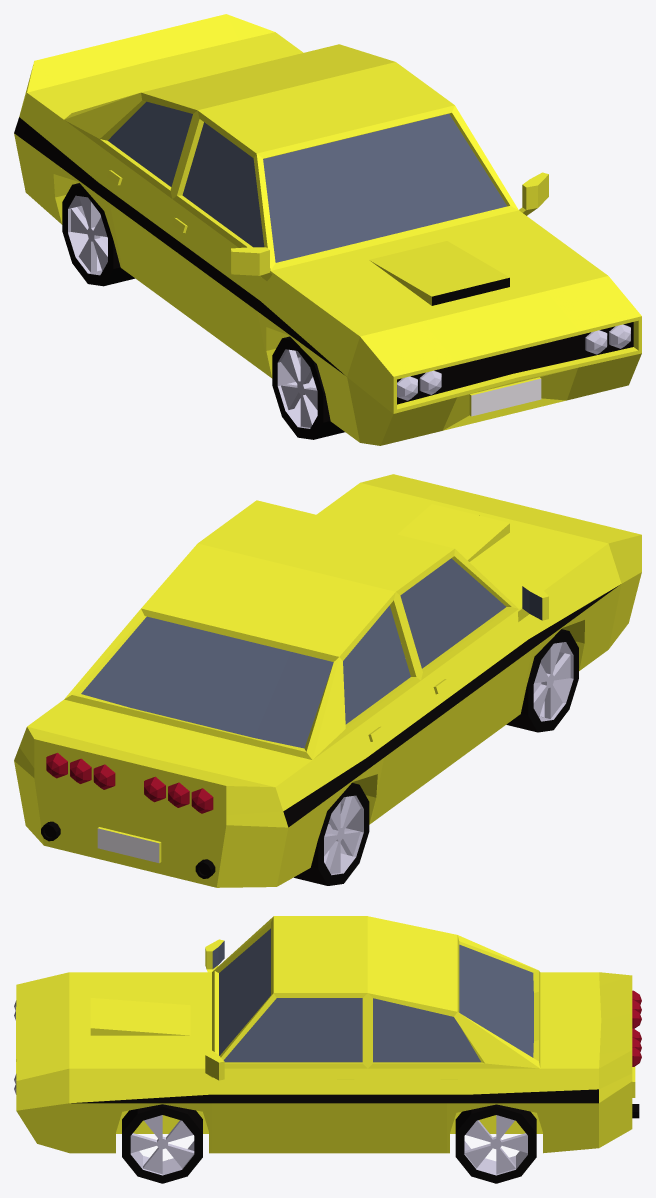
The model's file is suv_luxury.glb.
The picture shows the model from 3 angles, top to bottom: view 1: azimuth 30°, elevation 25°; view 2: azimuth 150°, elevation 25°; view 3: azimuth 270°, elevation 25°; orthographic projection. The views are drawn at different scales.
Parts seen in each view (by area): view 1: body; view 2: body; view 3: body.
Part boxes in pixels (x1,y1,x2,y2): body: (14, 14, 641, 445); body: (14, 474, 641, 887); body: (14, 916, 641, 1183).
Bounding box in the file's own units: 2.81 × 1.91 × 6.06.
